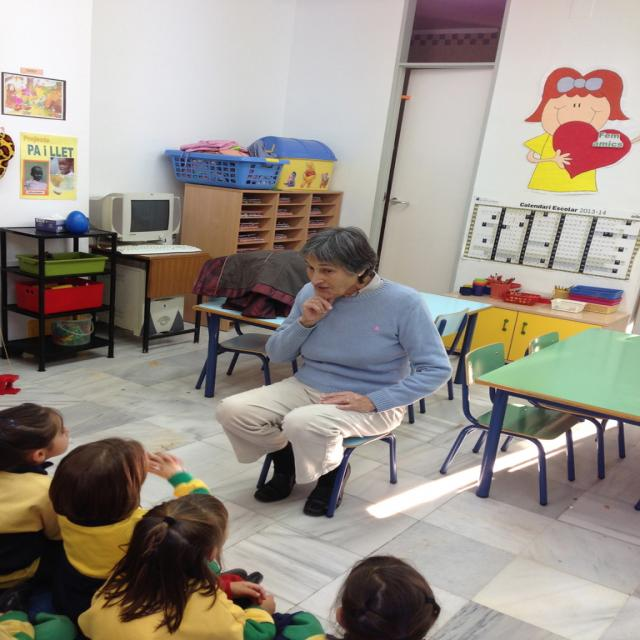chair: (449, 336, 597, 504), (191, 251, 310, 398)
desk: (468, 323, 633, 506)
person: (215, 225, 450, 518), (76, 494, 308, 640), (46, 438, 185, 628), (0, 403, 72, 619), (308, 555, 441, 640)
tv: (89, 192, 180, 242)
